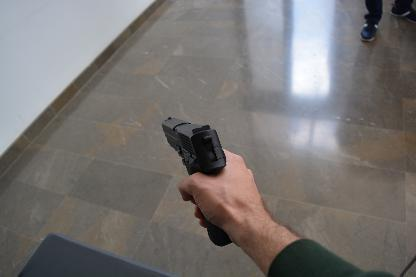pistol: (161, 115, 233, 246)
